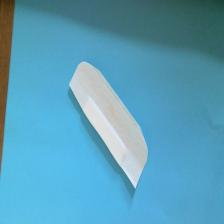Cut: (68, 59, 151, 195)
